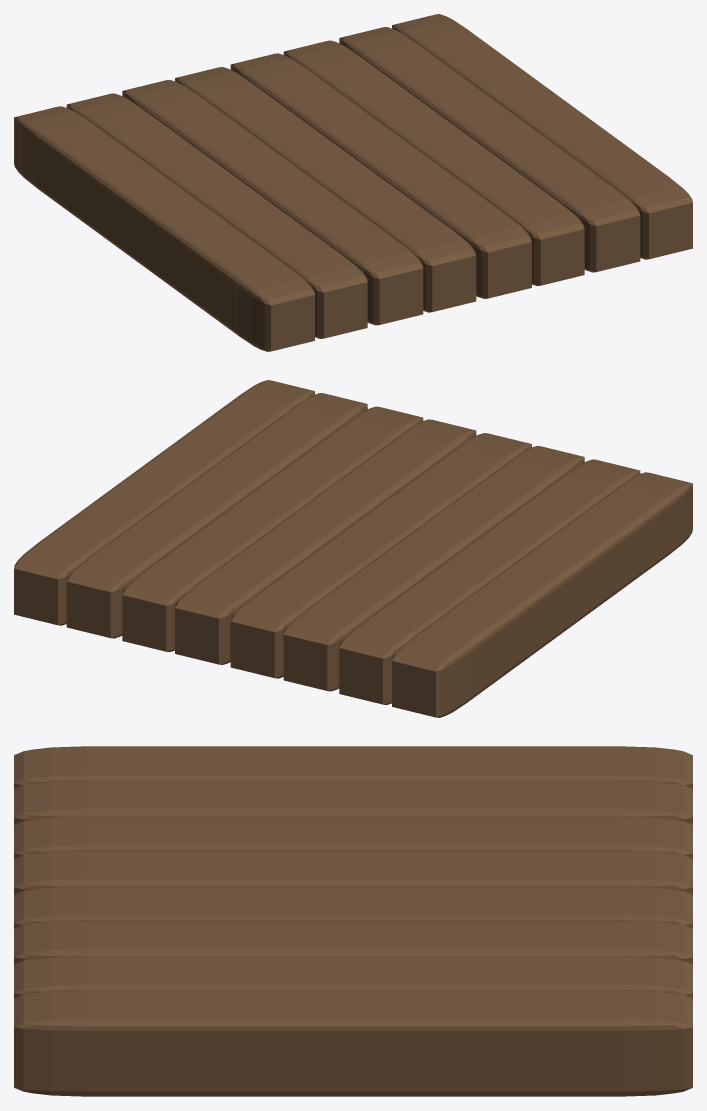
File: Floor.fbx
3 renders of one model, top to bottom at view 1: azimuth 30°, elevation 25°; view 2: azimuth 150°, elevation 25°; view 3: azimuth 270°, elevation 25°, orthographic. The views are drawn at different scales.
Parts seen in each view (by area): view 1: Cube.001; view 2: Cube.001; view 3: Cube.001.
Boxes of the visible parts, <box> form: Cube.001: <box>14,14,692,351</box>; Cube.001: <box>14,380,692,717</box>; Cube.001: <box>14,746,692,1096</box>.
Bounding box in the file's own units: 195 × 25 × 200.
